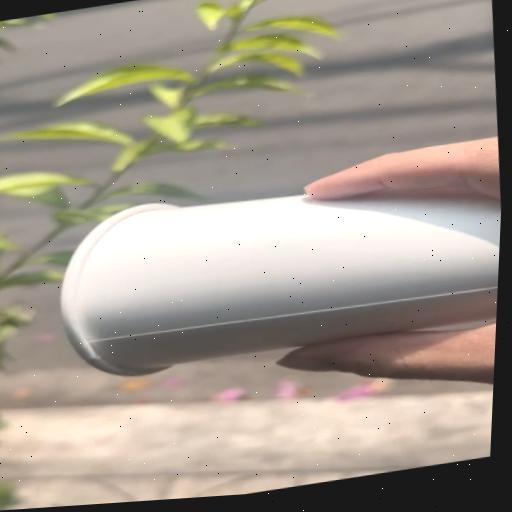Ly_giay: (63, 192, 501, 374)
